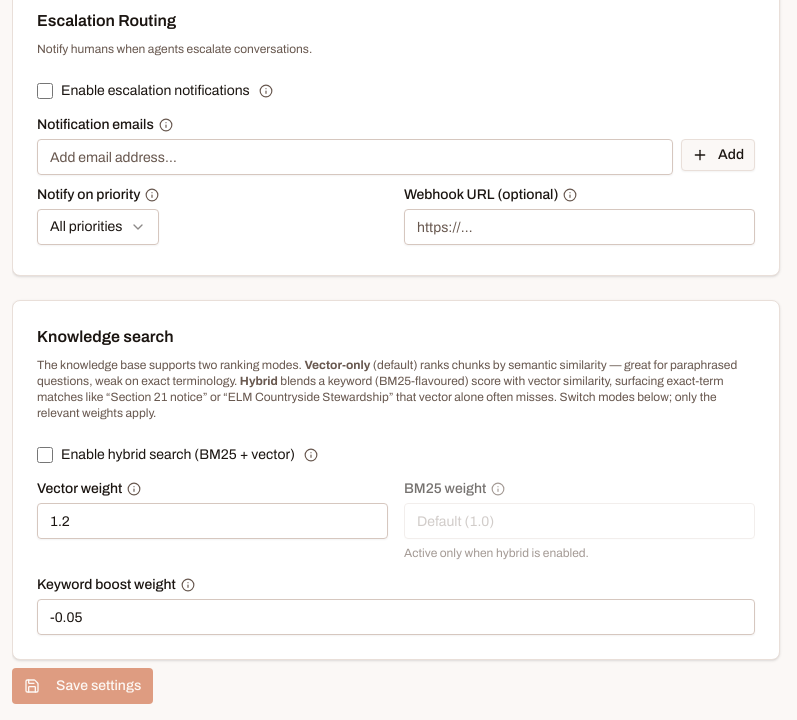
it: SettingsForm › Hybrid search › enables BM25 weight input after toggling hybrid on
(page scrolled)
Expected: the number field with id "bm25Weight" is disabled, [404,503,755,539]
Click the checkbox labelled "Enable hybrid search (BM25 + vector)" at (45, 455), box [37,447,53,463]
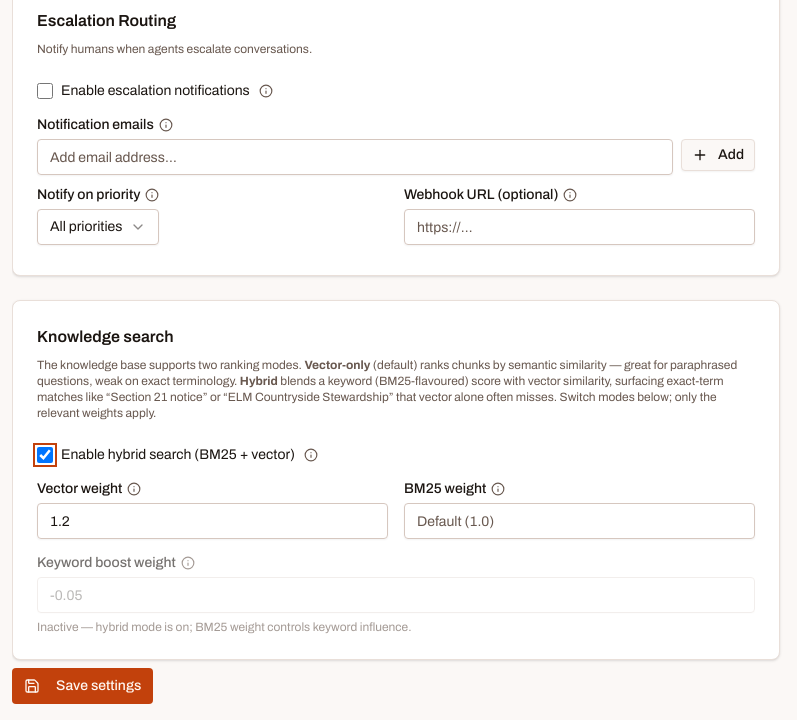
Now the checkbox labelled "Enable hybrid search (BM25 + vector)" is checked, box [37,447,53,463]
Now the number field with id "bm25Weight" is enabled, box [404,503,755,539]
